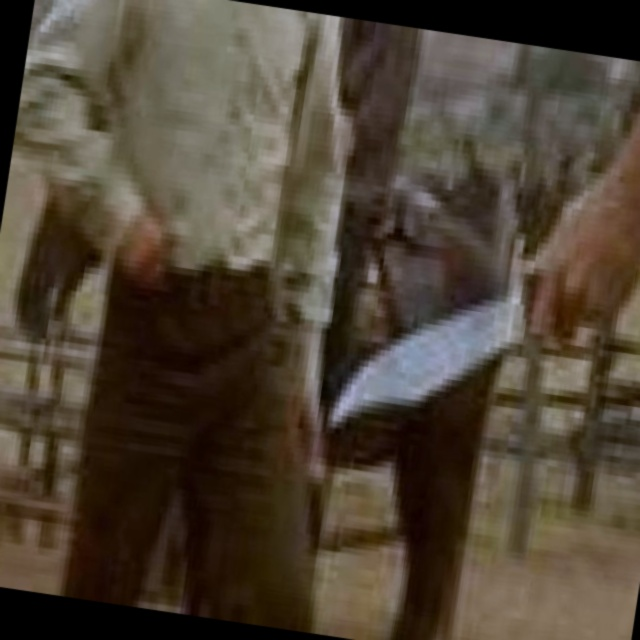Sharp-Object: (329, 217, 542, 455)
